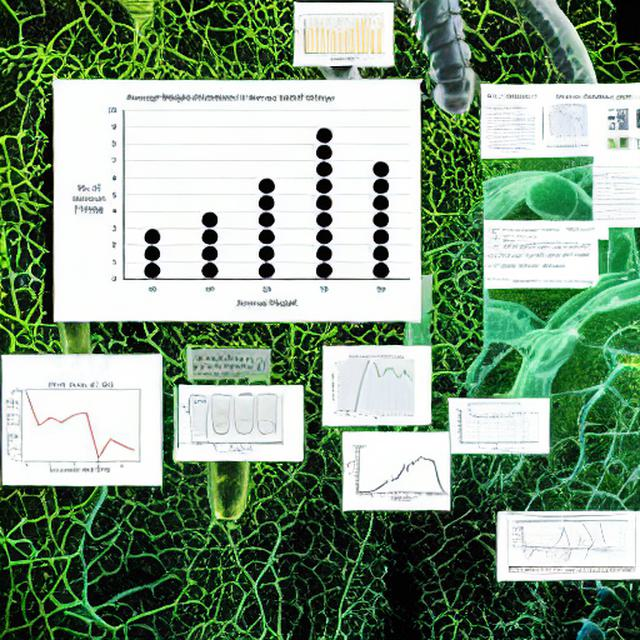Graph: (62, 86, 416, 318), (2, 367, 155, 482), (326, 349, 425, 423), (347, 443, 447, 502), (296, 10, 383, 62), (451, 401, 533, 450), (509, 520, 578, 563), (544, 101, 594, 139)
